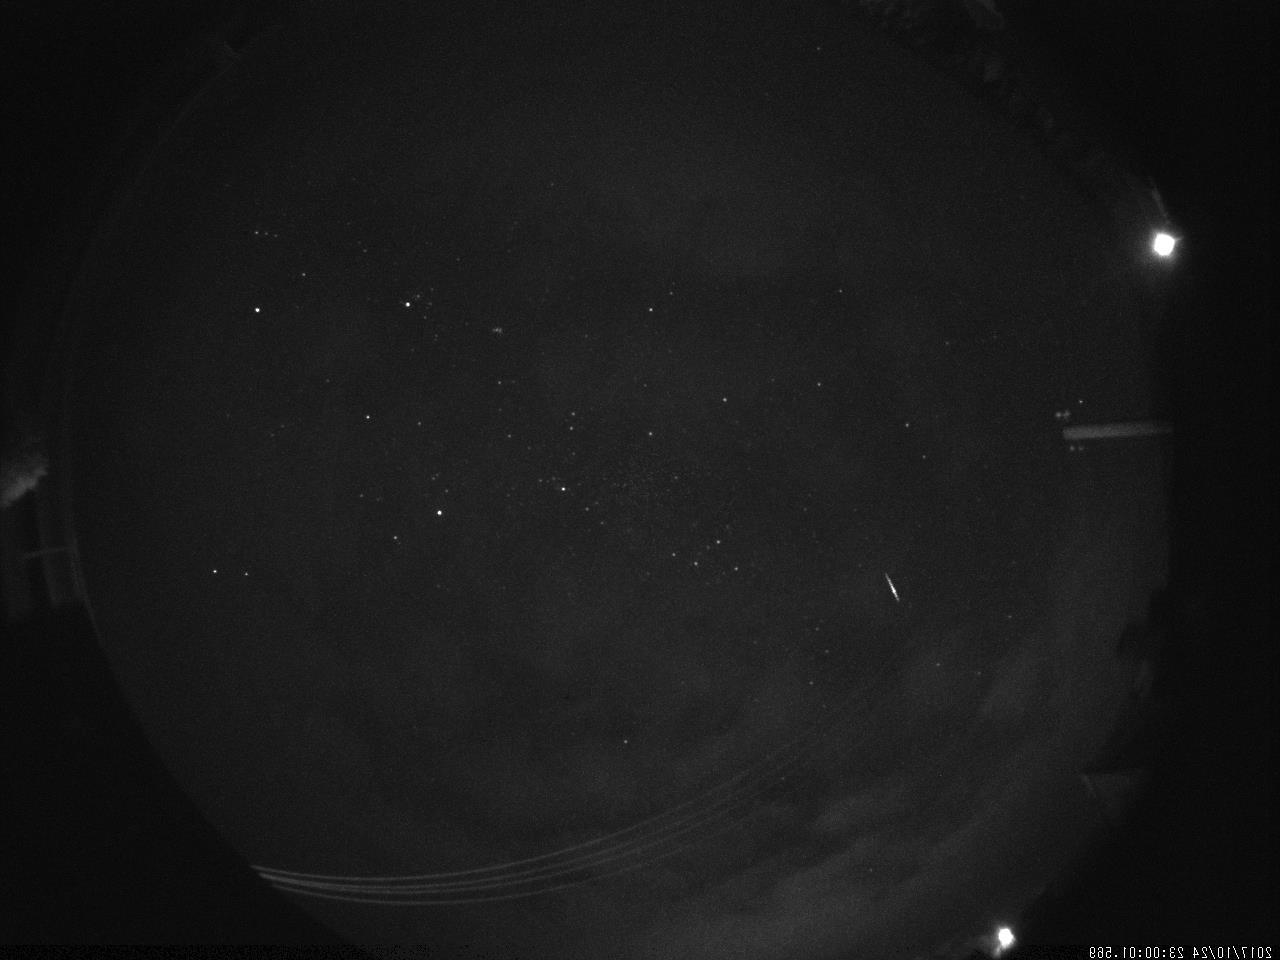meteor: (878, 565, 907, 608)
